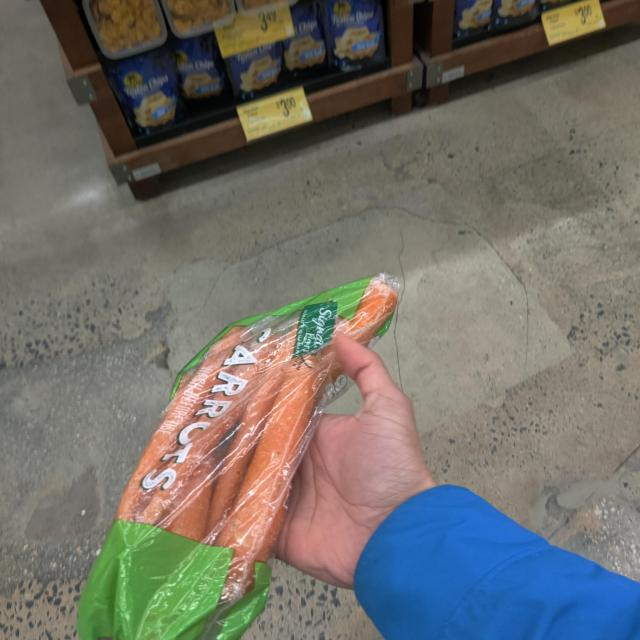Carrots: (78, 277, 402, 640)
